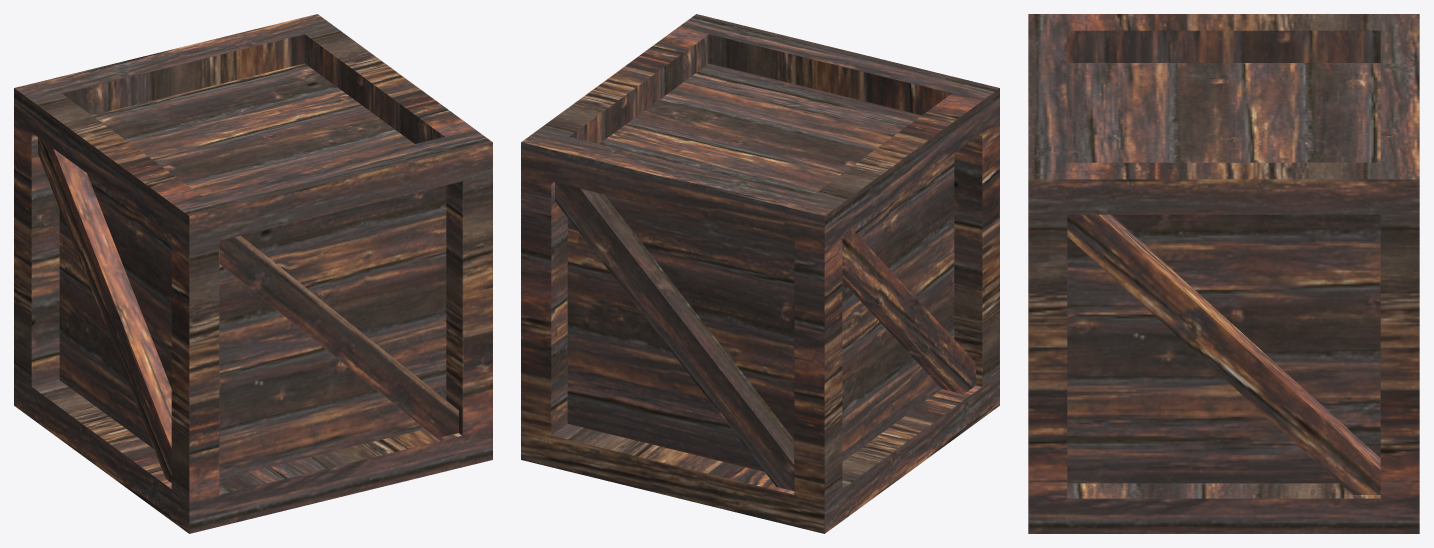
File: Chest.fbx
3 views of the same model, side by side, from view 1: azimuth 30°, elevation 25°; view 2: azimuth 150°, elevation 25°; view 3: azimuth 270°, elevation 25° (orthographic). The views are drawn at different scales.
Visible parts, largest first — view 1: Chest; view 2: Chest; view 3: Chest.
Part boxes in pixels (<box>): Chest: <box>14,14,492,533</box>; Chest: <box>521,14,999,533</box>; Chest: <box>1028,14,1419,533</box>.
Size of the model in its own units: 100 by 100 by 100.
